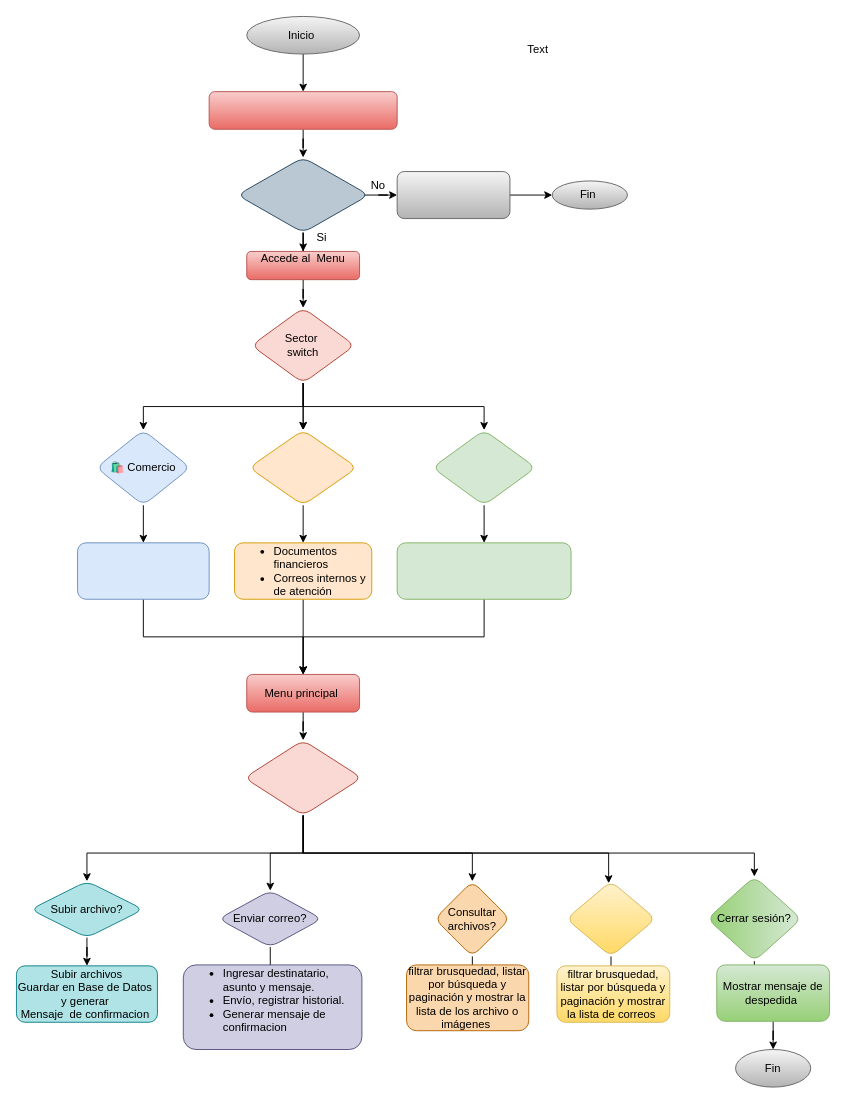
The diagram is 846 pixels wide and 1104 high, and some of its shapes have lost their labels. Here are the shapes that lost their labels. From the top down, the centre of each, then its label:
point (302, 110): Acceder al sistema Usuario ingresa credenciales
point (302, 195): Validacion existe el usuario ?
point (453, 195): Muestra mensaje de error
point (302, 467): 🏦 Banca
point (483, 467): 🏫 Educación
point (143, 570): Imágenes de productos Correos con clientes
point (483, 570): Documentos académicos Correos entre docentes y estudiantes
point (302, 777): Opciones switch
point (610, 918): Consultar correos?
